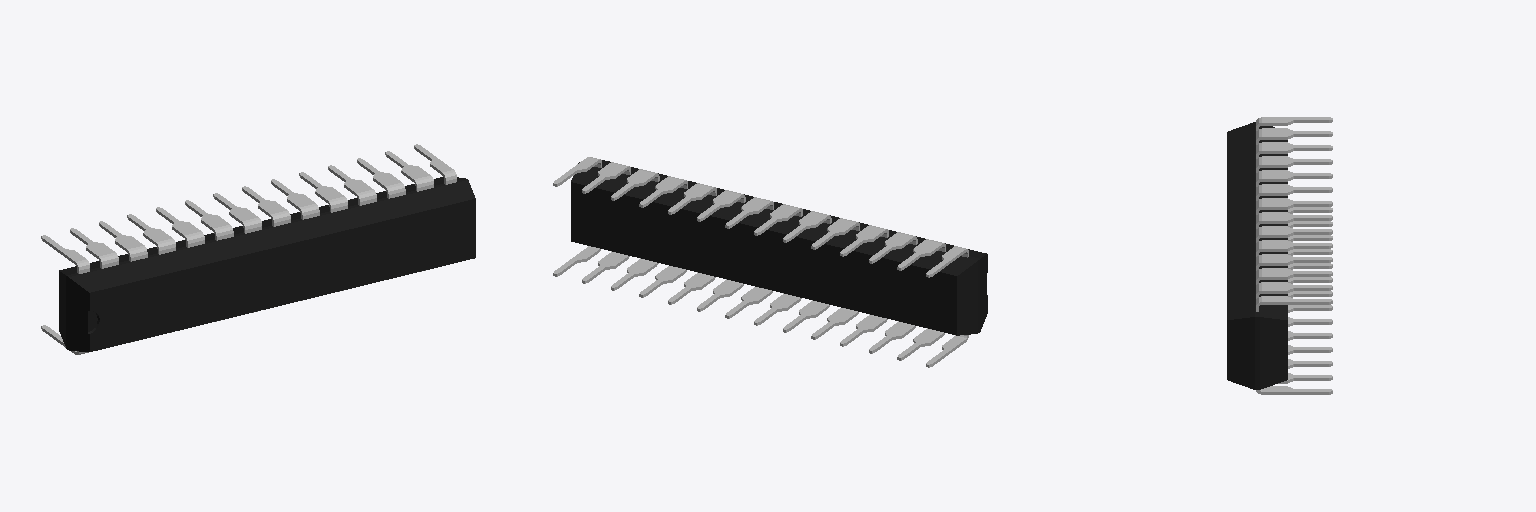
File: DIP-28P-M04.obj
3 views of the same model, side by side, from view 1: azimuth 30°, elevation 25°; view 2: azimuth 150°, elevation 25°; view 3: azimuth 270°, elevation 25° (orthographic).
Parts seen in each view (by area): view 1: Solid1; view 2: Solid1; view 3: Solid1.
Part boxes in pixels (x1,y1,x2,y2): Solid1: (41, 144, 475, 354); Solid1: (553, 157, 987, 367); Solid1: (1227, 117, 1332, 394).
Bounding box in the file's own units: 35.4 × 7.87 × 8.2.